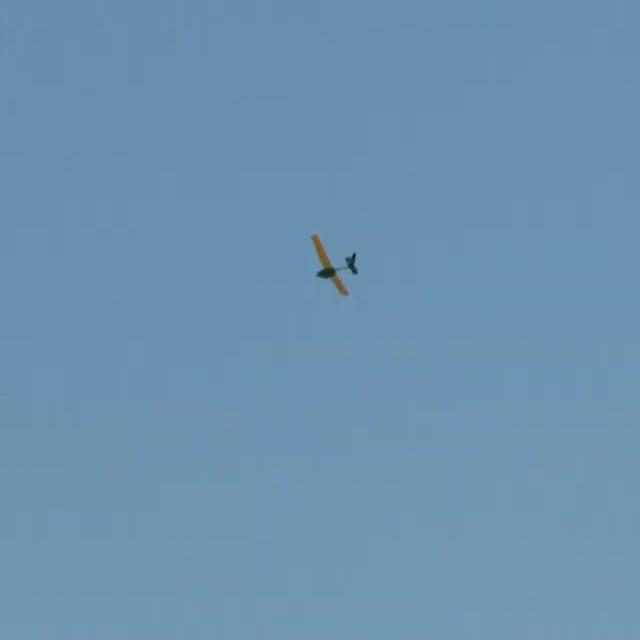iha: (311, 259, 358, 261)
